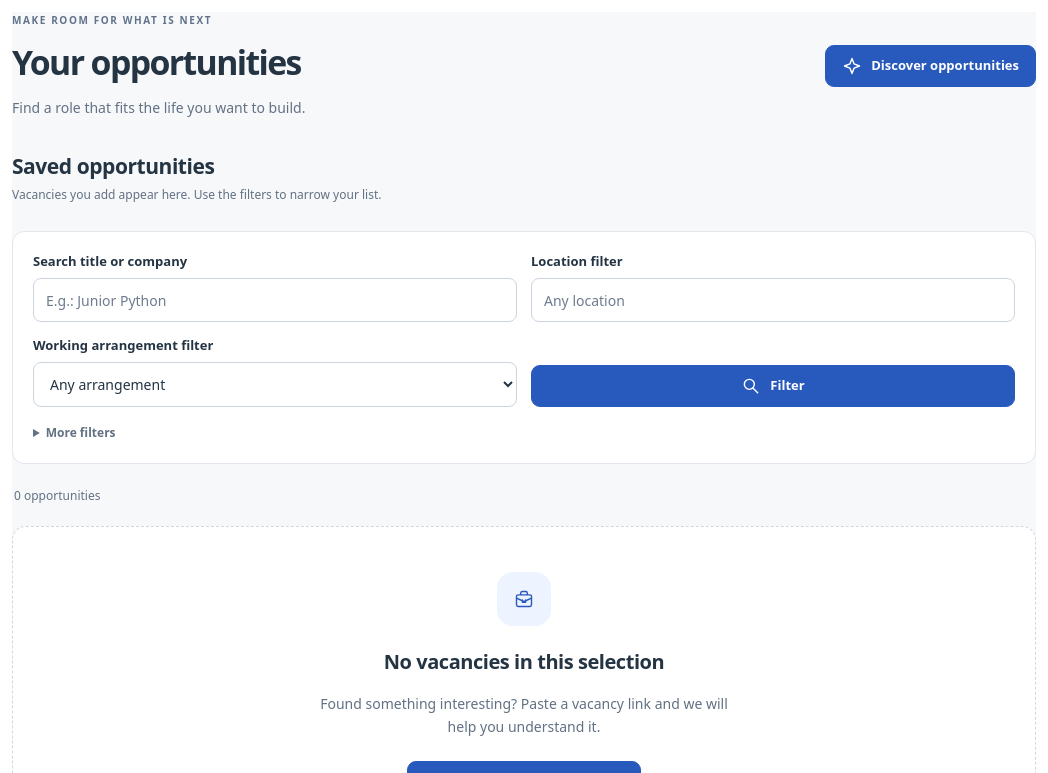
it: applies combined filters on the server and clears every field together
Expected: the heading "No vacancies in this selection" is shown, [384,648,664,675]
Type "Python" into the search field labelled "Search title or company" at (275, 300), box [33,278,517,322]
Type "Dublin" into the field labelled "Location filter" at (773, 300), box [531,278,1015,322]
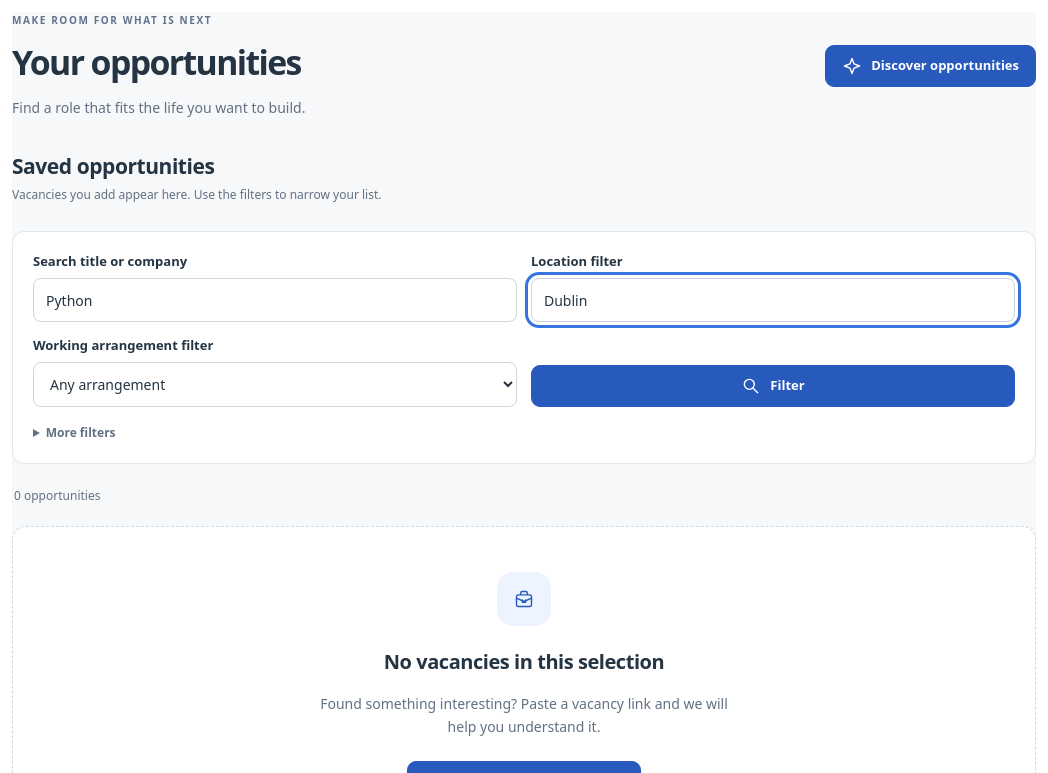
Select "Remote" in the dropdown labelled "Working arrangement filter" at (275, 385), box [33,362,517,407]
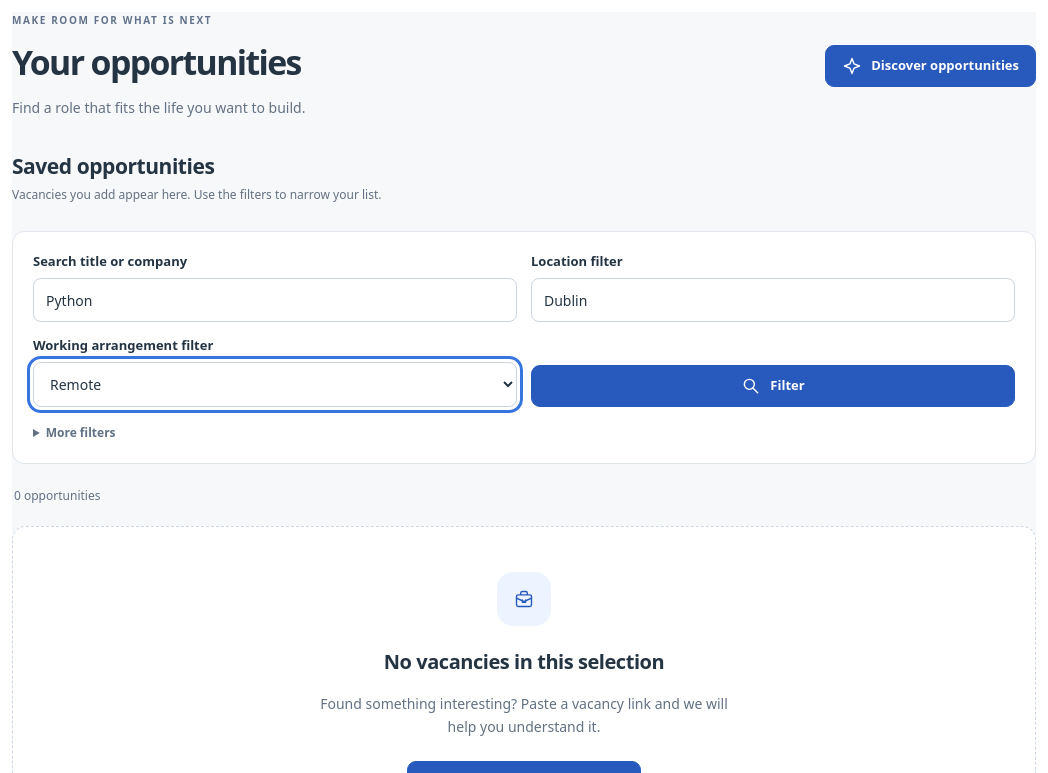
Click the heading "More filters" at (81, 433), box [46,424,116,441]
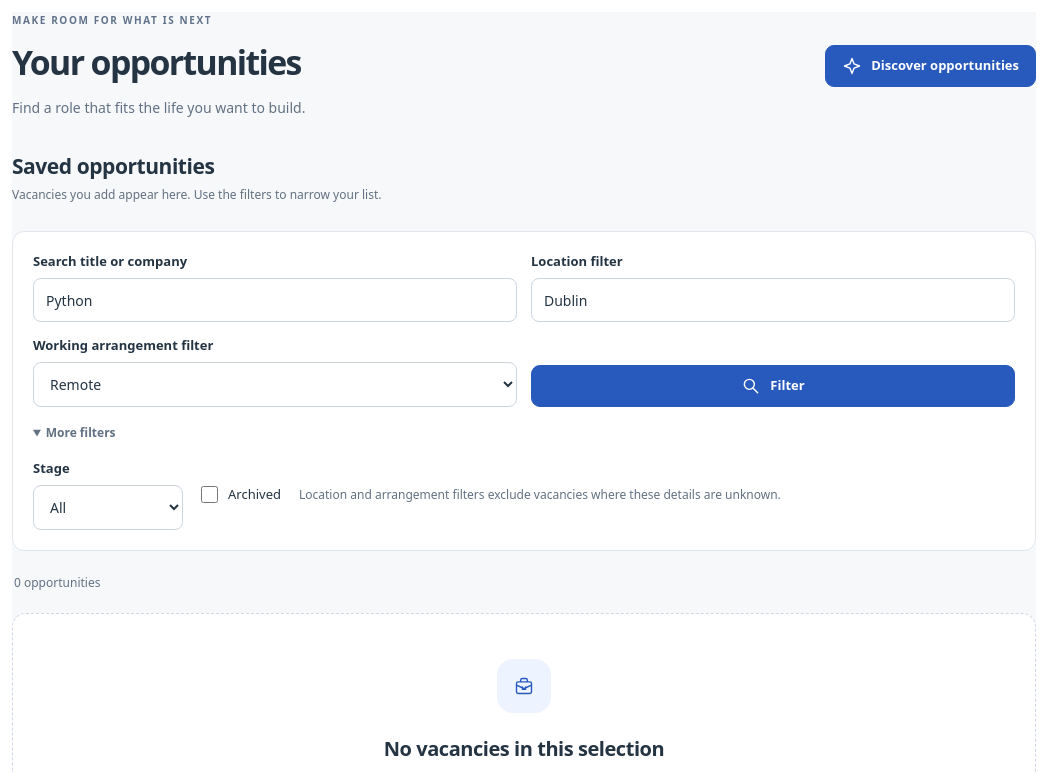
Select "Reviewed" in the dropdown labelled "Stage" at (108, 508), box [33,485,183,530]
Click the checkbox labelled "Archived" at (210, 495), box [201,486,218,503]
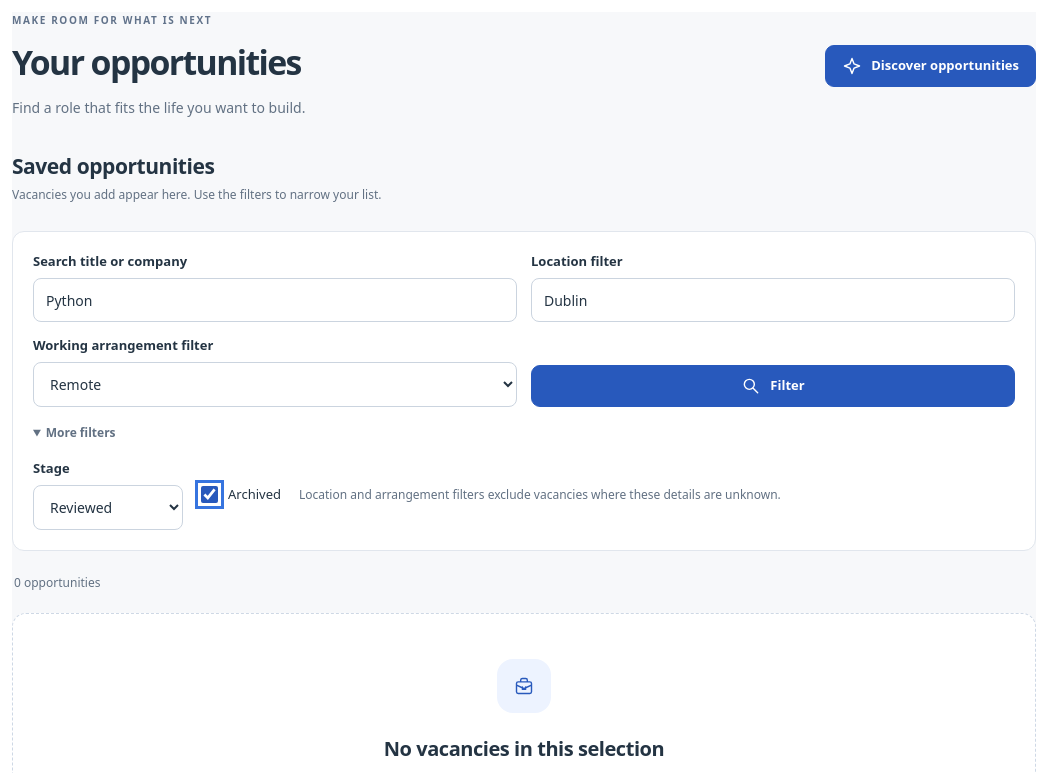
Click the button "Filter" at (773, 386), box [531,365,1015,407]
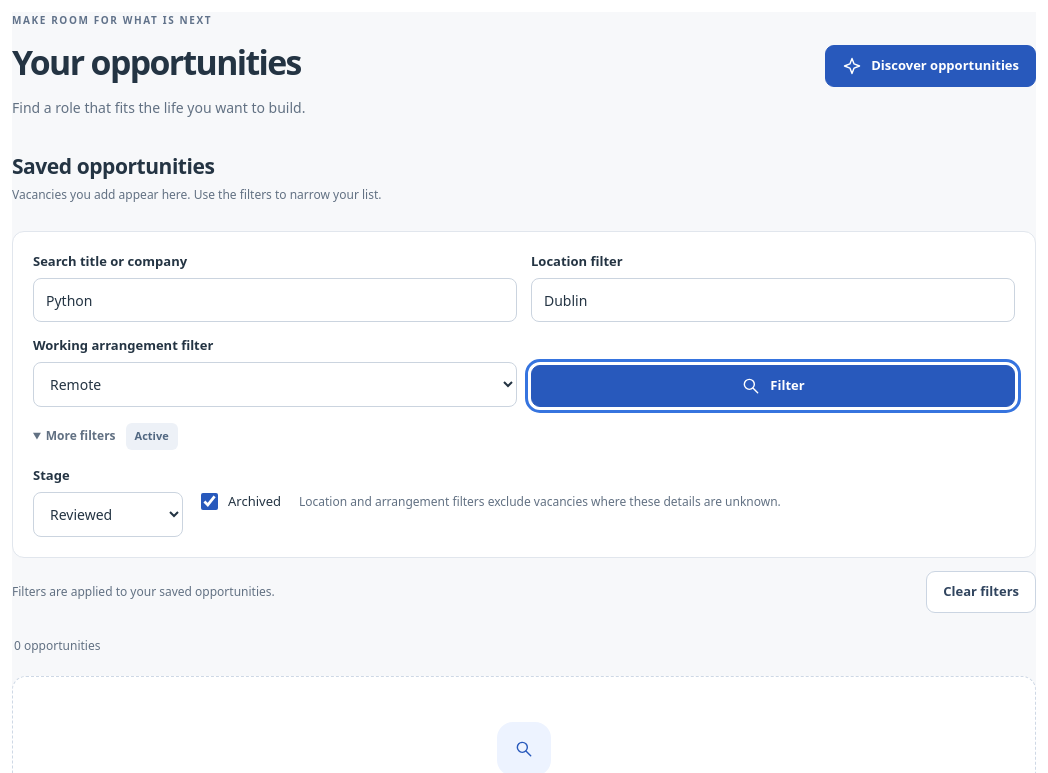
Click the button "Clear filters" at (981, 592), box [926,571,1036,613]
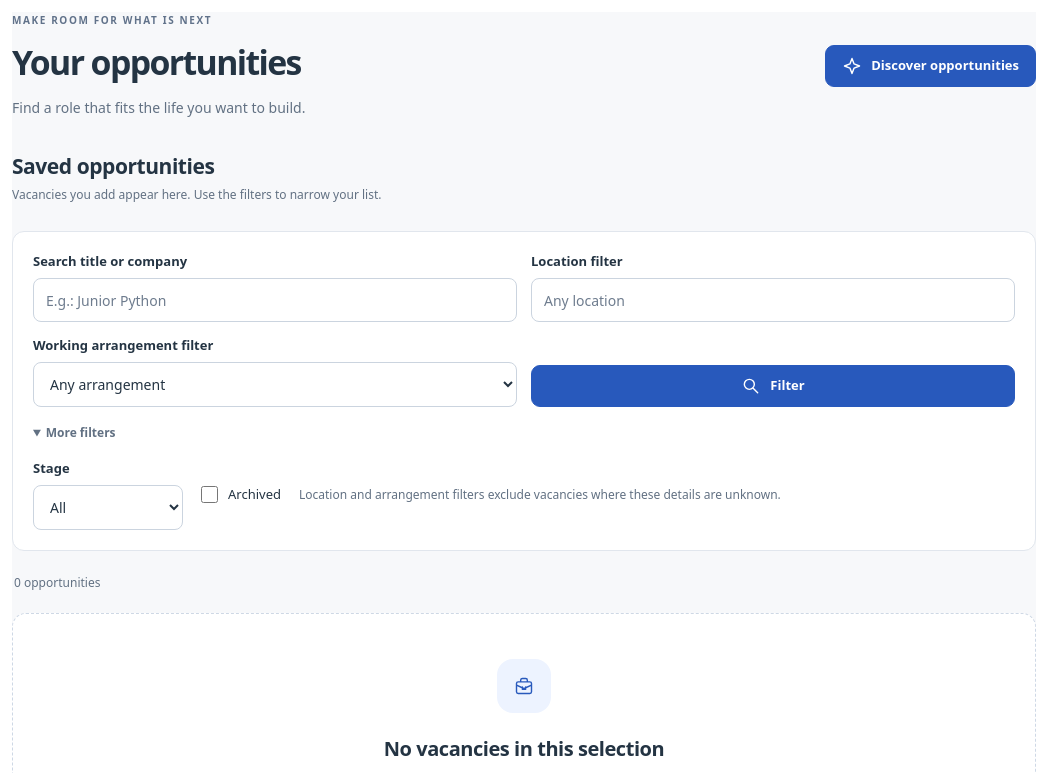
Expected: the checkbox labelled "Archived" is not checked, [201,486,218,503]
Expected: the field labelled "Location filter" is empty, [531,278,1015,322]
